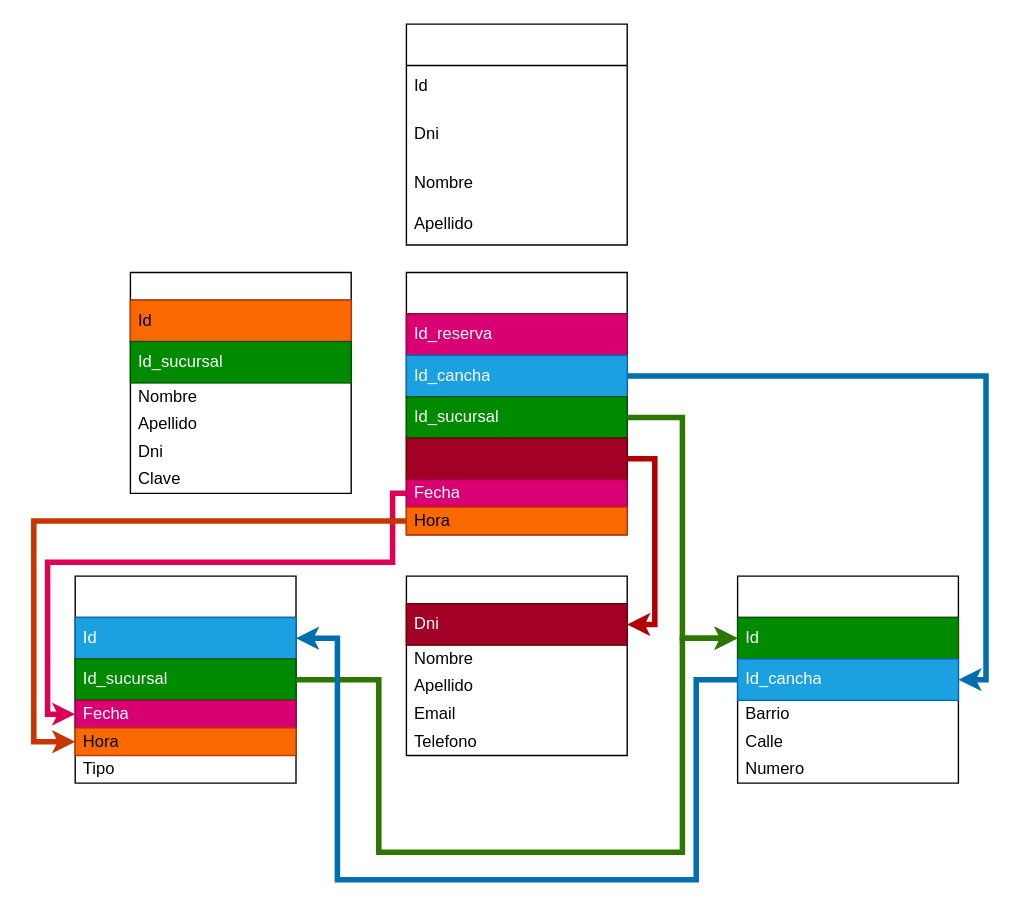
This 1020x915 diagram has some shape labels left out. The box of each missing label's shape, as (x1, y1, x2, y2) in pixels:
Administradores: (405, 23, 627, 245)
Canchas: (74, 575, 296, 783)
Cliente: (405, 575, 627, 756)
Dni_cliente: (405, 437, 627, 480)
Personal: (129, 271, 351, 493)
Reservas: (405, 271, 627, 535)
Sucursales: (736, 575, 958, 783)
